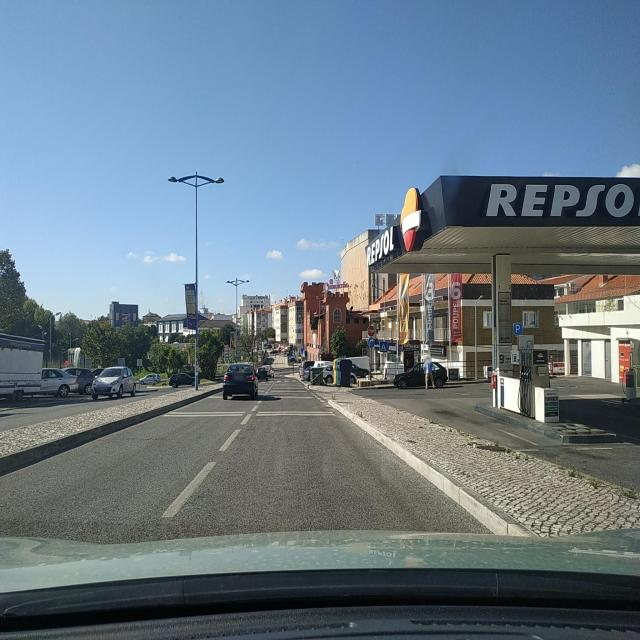car: (393, 360, 449, 390), (319, 358, 371, 387), (91, 366, 136, 399), (222, 362, 258, 400), (40, 368, 78, 397), (168, 371, 202, 388), (299, 360, 317, 381), (137, 374, 161, 386), (256, 364, 273, 380)
